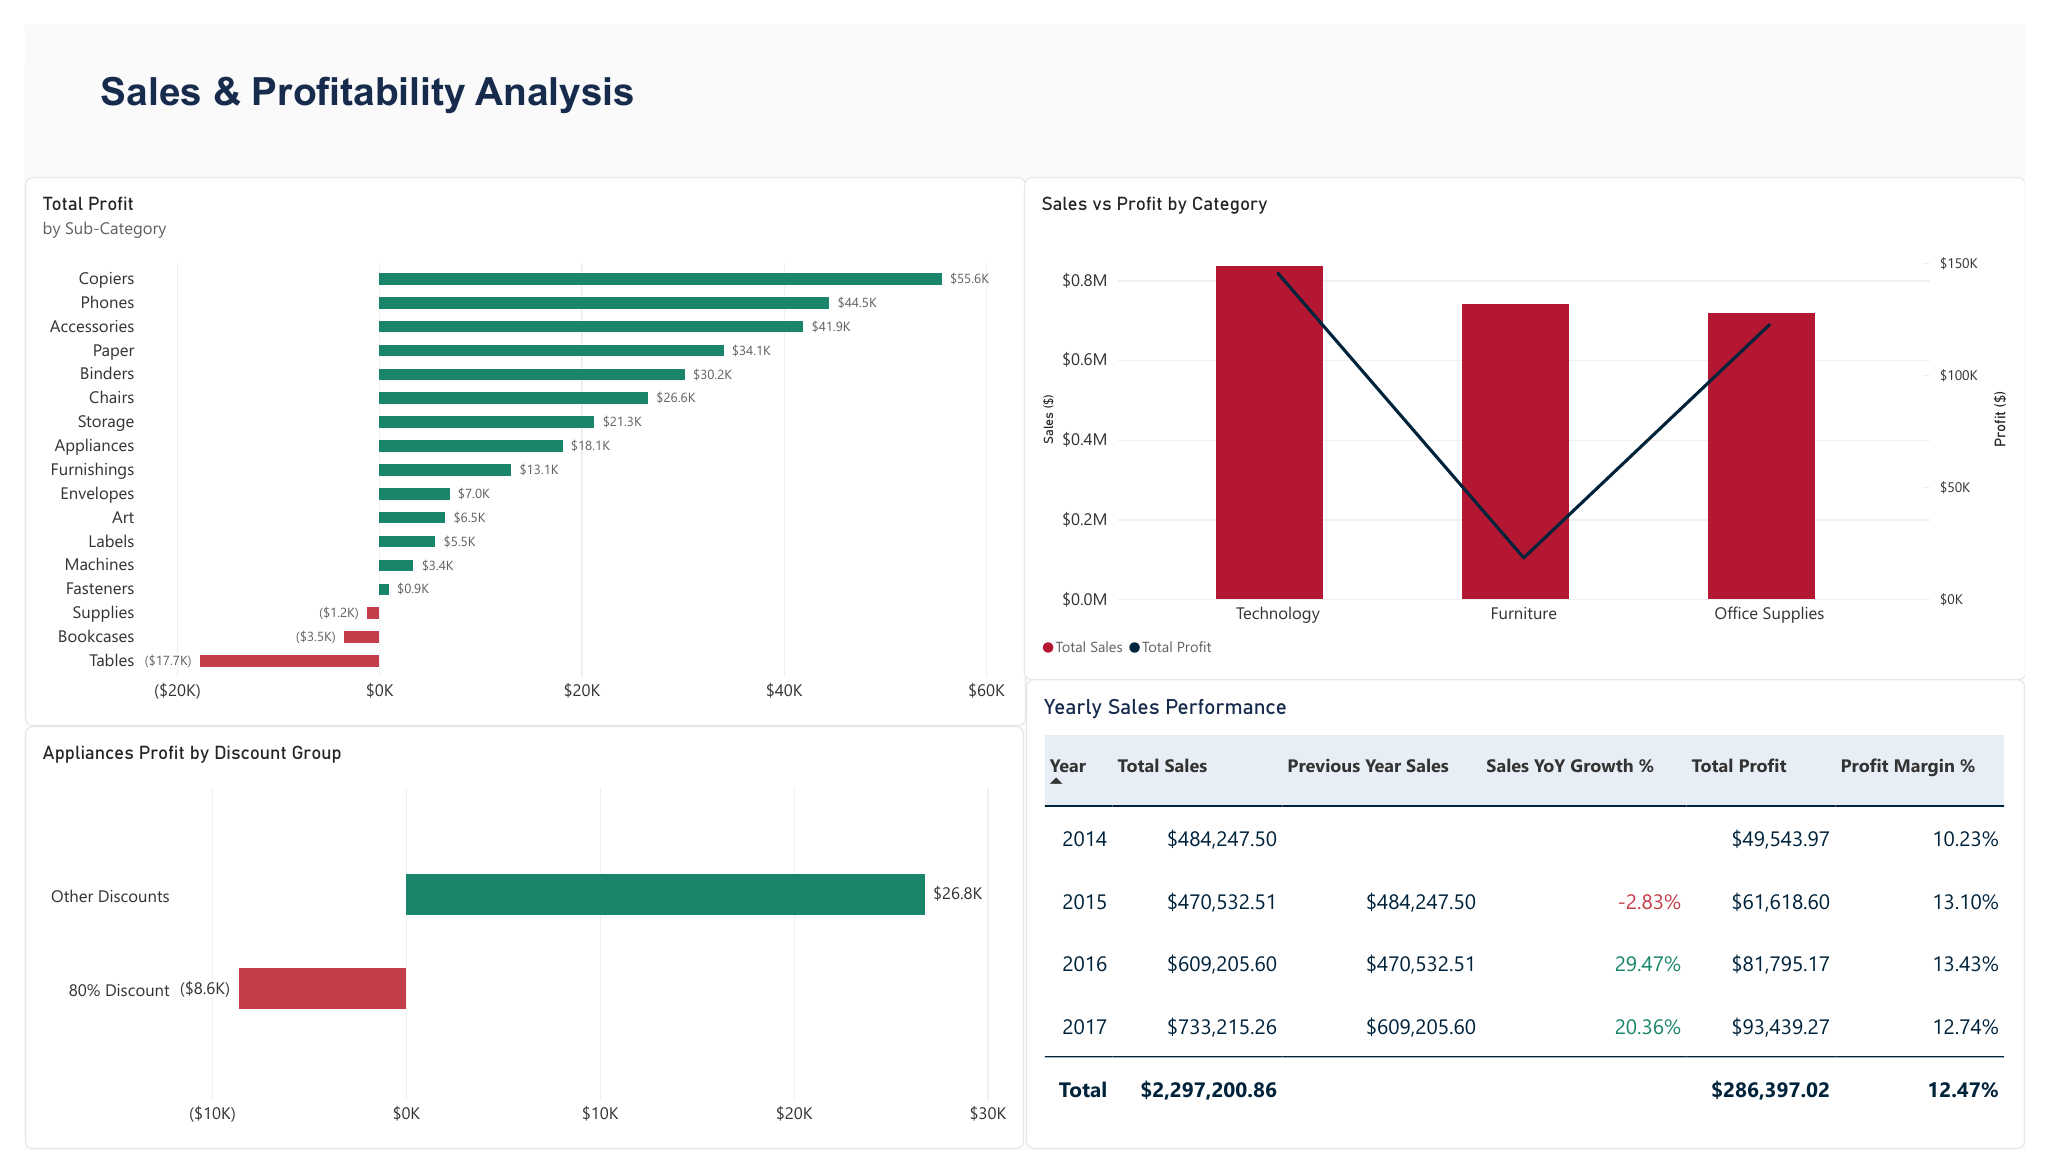

Layout of this report page (visuals, bound fields, positions):
{"tool":"powerbi","page":{"name":"Page Sales & Profitability","canvas":[1920,1080],"ordinal":1},"visuals":[{"type":"tableEx","title":"Yearly Sales Performance","fields":{"Values":["DateTable.Year","SalesData.Total Sales","SalesData.Previous Year Sales Display","SalesData.Sales YoY Growth %","SalesData.Total Profit","SalesData.Profit Margin %"]},"box":[961.2,627.8,959.2,450.8],"z":0},{"type":"textbox","box":[0,0,1920.4,146.5],"z":2000},{"type":"clusteredBarChart","fields":{"Category":["SalesData.Sub-Category"],"Y":["SalesData.Total Profit"]},"box":[0,146.1,961.2,526.9],"z":2001},{"type":"lineClusteredColumnComboChart","title":"Sales vs Profit by Category","fields":{"Category":["SalesData.Category"],"Y":["SalesData.Total Sales"],"Y2":["SalesData.Total Profit"]},"box":[958.7,146,961.9,482.5],"z":2002},{"type":"clusteredBarChart","title":"Appliances Profit by Discount Group","fields":{"Category":["SalesData.Discount Group"],"Y":["SalesData.Total Profit"]},"box":[0,673.1,959.2,405.5],"z":2003}]}

Visuals, with their boxes in screenshot pixels (x1, y1, x2, y2), scaled from the page's 1920x1080 canvas onto the 2050x1175 screenshot:
"Yearly Sales Performance" tableEx: 1026 683 2049 1173
textbox: 0 0 2049 159
clusteredBarChart - SalesData.Sub-Category x SalesData.Total Profit: 0 159 1026 732
"Sales vs Profit by Category" lineClusteredColumnComboChart: 1024 159 2049 684
"Appliances Profit by Discount Group" clusteredBarChart: 0 732 1024 1173
